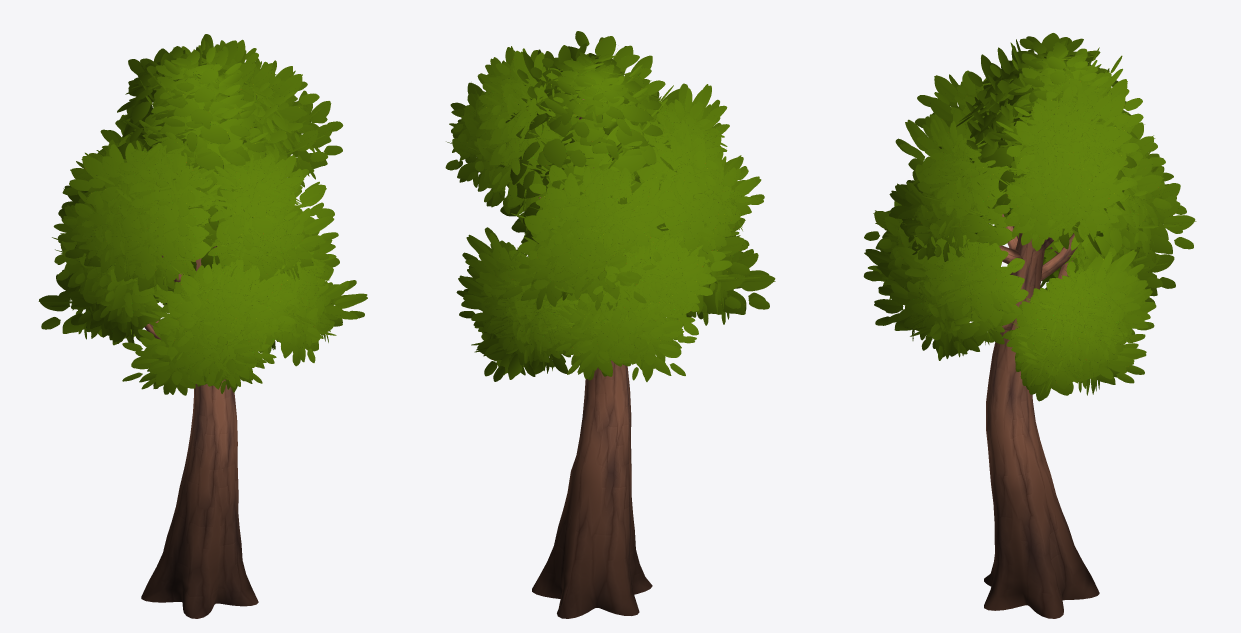
The model's file is CommonTree_1.glb.
The picture shows the model from 3 angles, left to right: view 1: azimuth 30°, elevation 25°; view 2: azimuth 150°, elevation 25°; view 3: azimuth 270°, elevation 25°; orthographic projection. The views are drawn at different scales.
Visible parts, largest first — view 1: CommonTree_1; view 2: CommonTree_1; view 3: CommonTree_1.
Part boxes in pixels (x1,y1,x2,y2): CommonTree_1: (38,34,367,618); CommonTree_1: (445,31,775,618); CommonTree_1: (863,33,1196,618).
Size of the model in its own units: 4.31 by 7.26 by 4.58.
2 materials, 2 textured.
